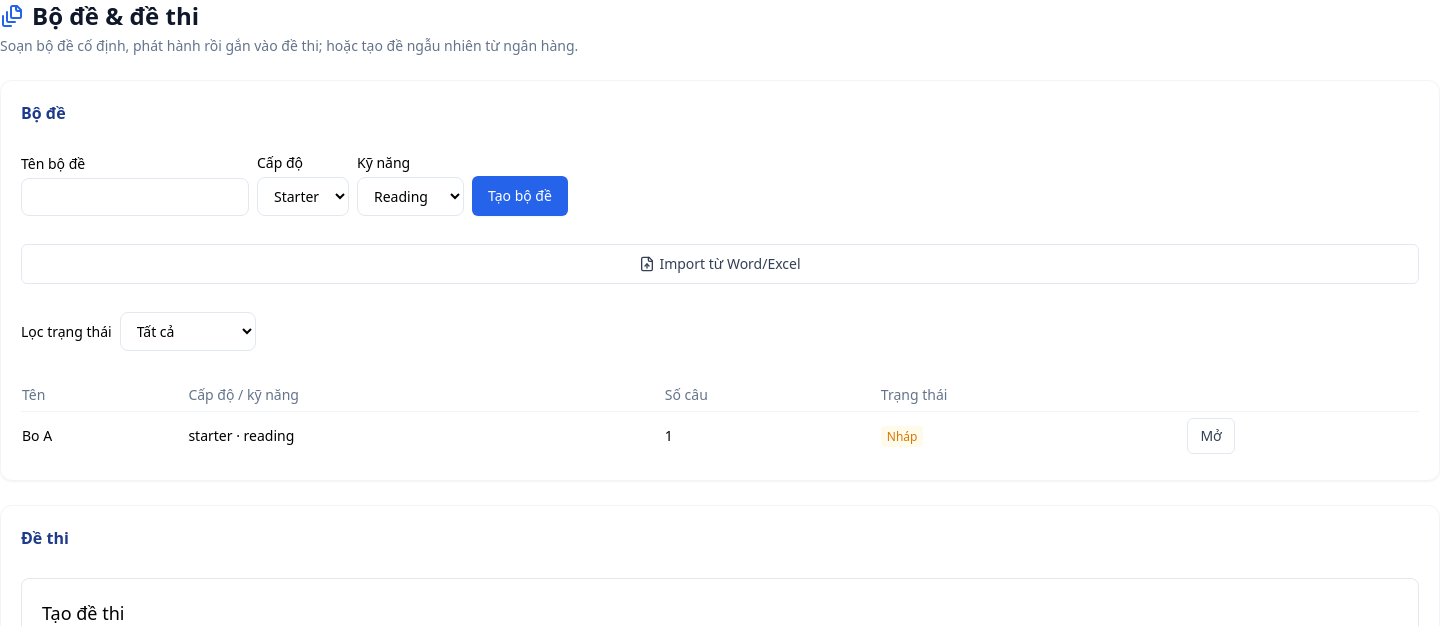
it: ExamSetsPage › adds a bank question, reorders, publishes and then locks editing
Click the button "Mở" at (1211, 436), box [1187,418,1235,454]
(page scrolled)
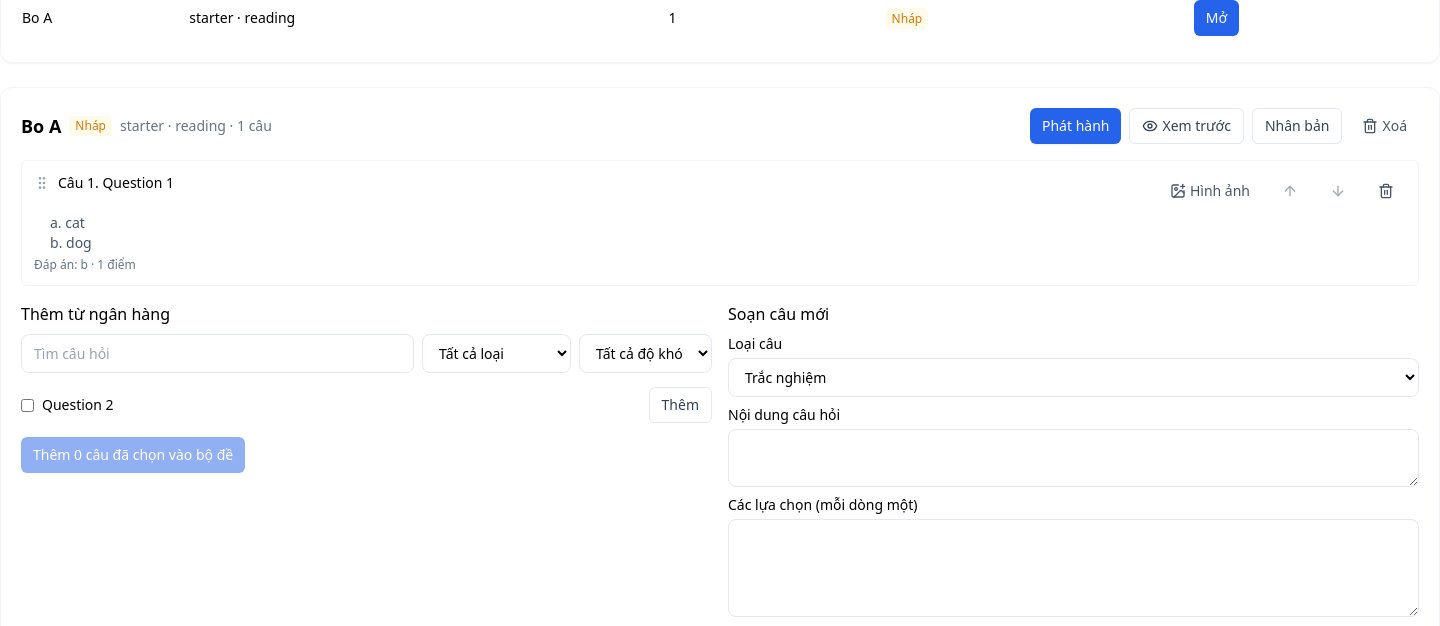
Click the button with aria-label "Thêm: Question 2" at (680, 405), box [649,387,712,423]
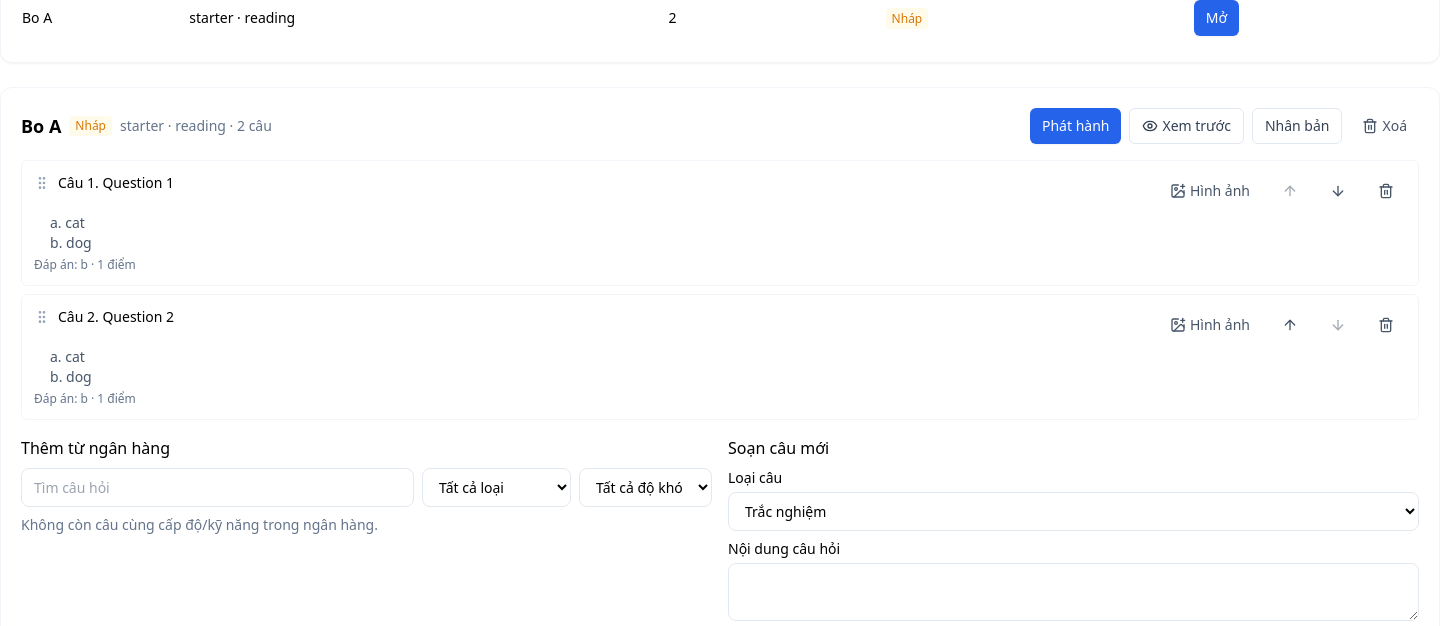
Click the button named "Lên câu 2" at (1290, 325), box [1270,307,1310,343]
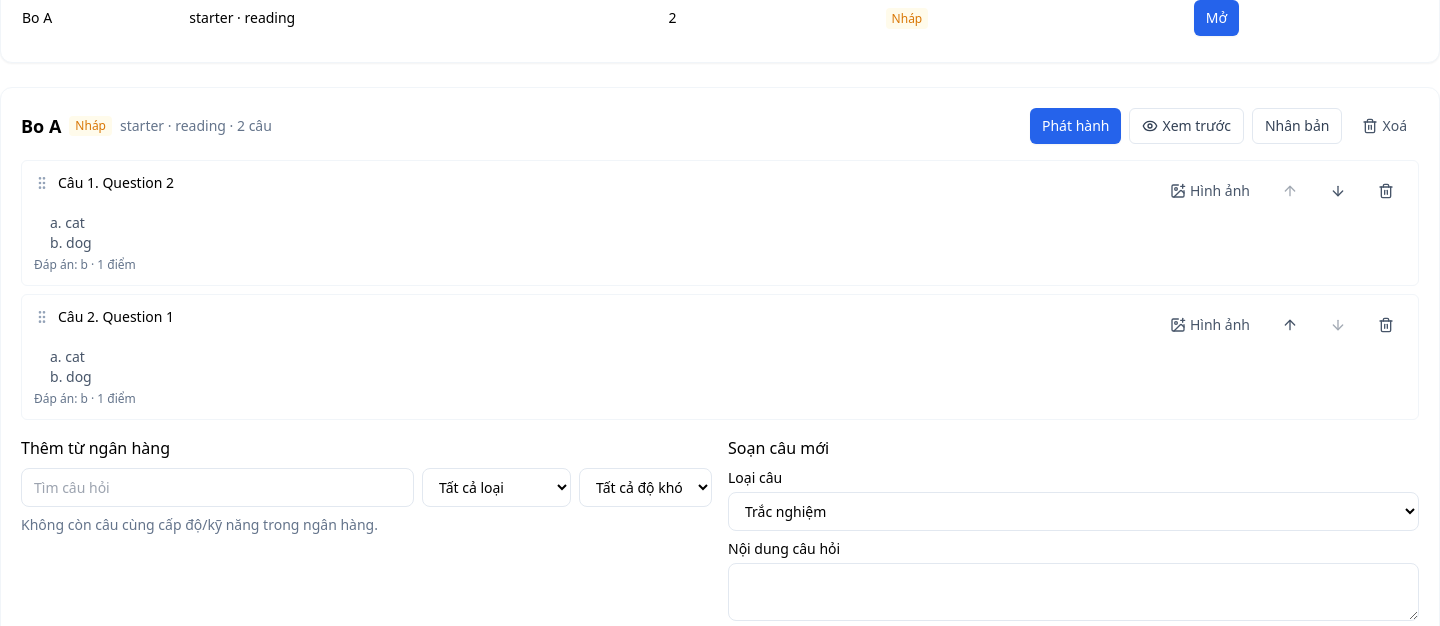
Click the button "Phát hành" at (1076, 126), box [1030,108,1122,144]
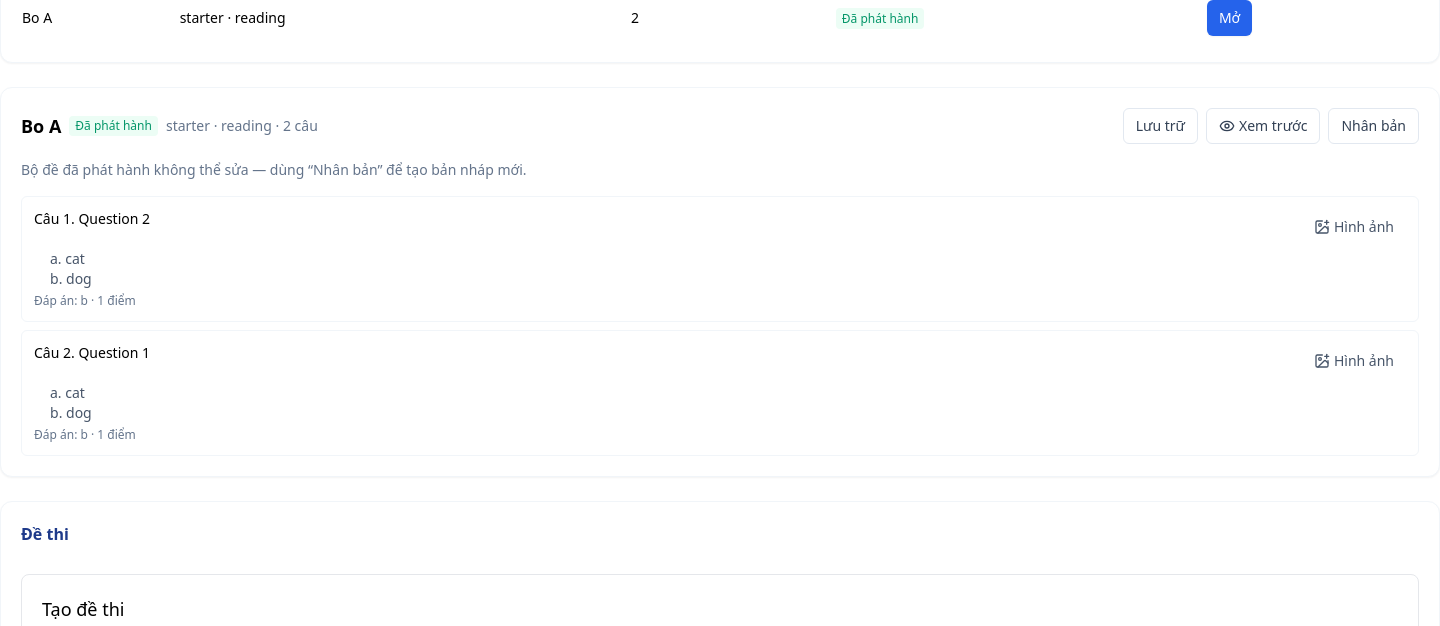
Now the text "không thể sửa" is shown, box [21,160,526,179]
